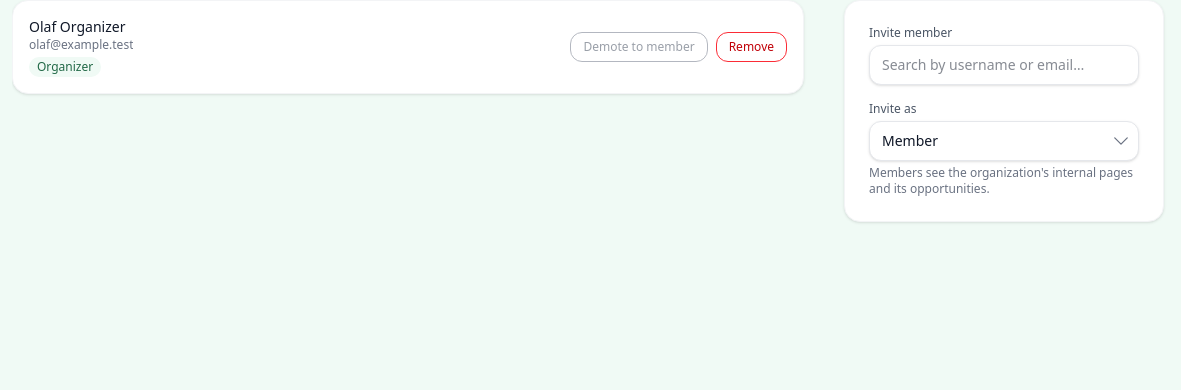
OrgMembersPage inviting rather than adding › creates an invitation and lists the invitee as pending
The width and height of the screenshot is (1181, 390).
Type "ingo" into the search field labelled "Invite member" at point(1004, 65), box x1=869 y1=45 x2=1139 y2=85
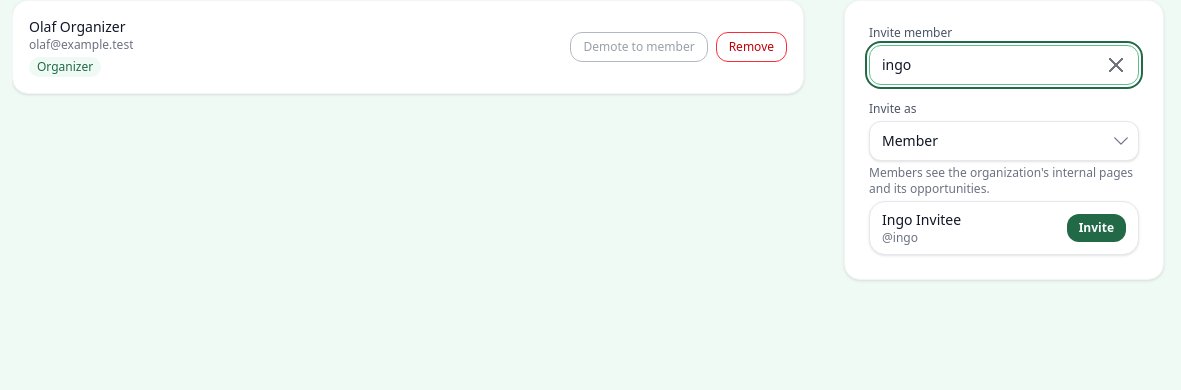
Click the button "Invite" at point(1096, 228), box x1=1067 y1=214 x2=1126 y2=242
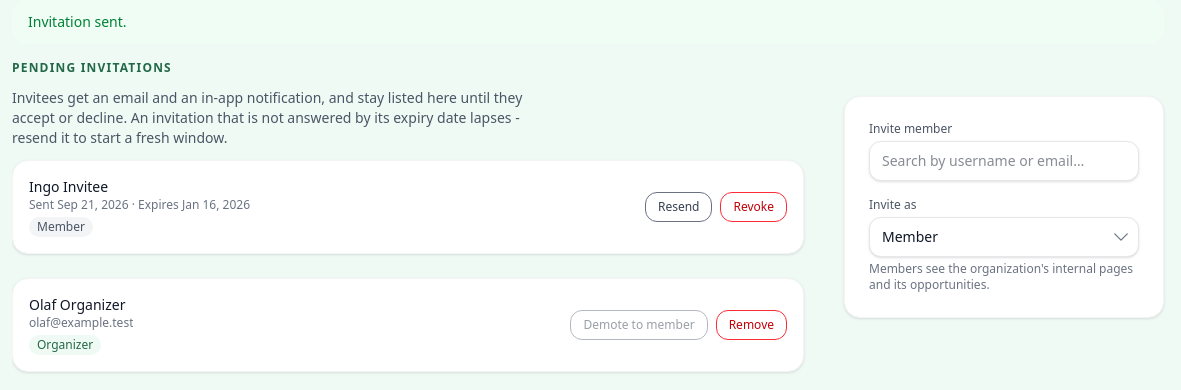
Expected: the list that starts with "Ingo Invitee" is shown, x1=13 y1=161 x2=803 y2=253
